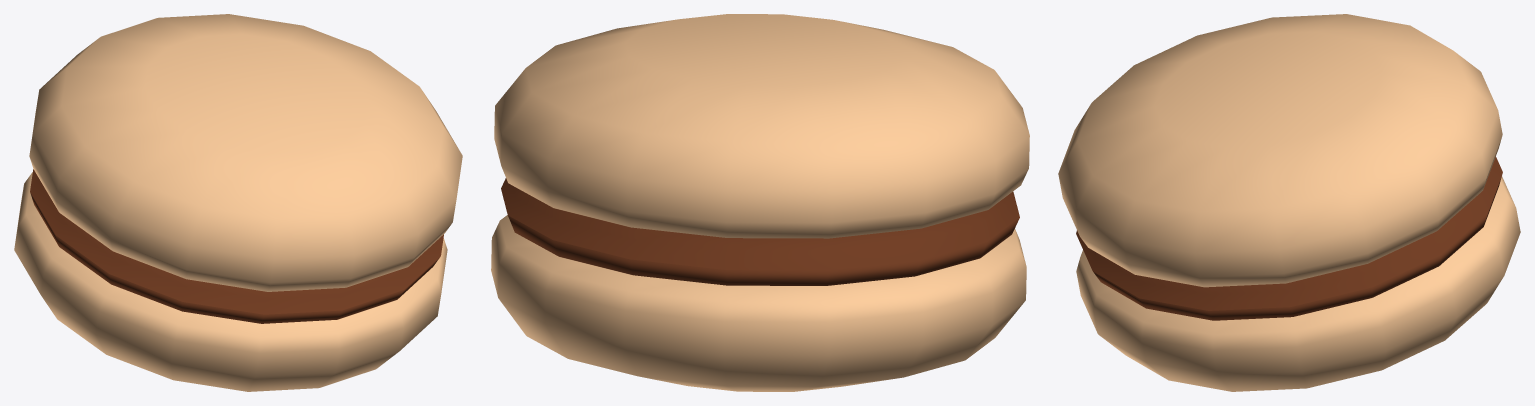
File: SM_macaron_11.fbx
3 views of the same model, side by side, from view 1: azimuth 30°, elevation 25°; view 2: azimuth 150°, elevation 25°; view 3: azimuth 270°, elevation 25° (orthographic). The views are drawn at different scales.
Parts seen in each view (by area): view 1: SM_macaron_11; view 2: SM_macaron_11; view 3: SM_macaron_11.
Part boxes in pixels (box(x1,y1,x2,y2)): SM_macaron_11: box(14, 14, 462, 391); SM_macaron_11: box(491, 14, 1029, 391); SM_macaron_11: box(1058, 14, 1520, 391).
Bounding box in the file's own units: 9.23 × 6.06 × 9.4.
1 material, 1 textured.
